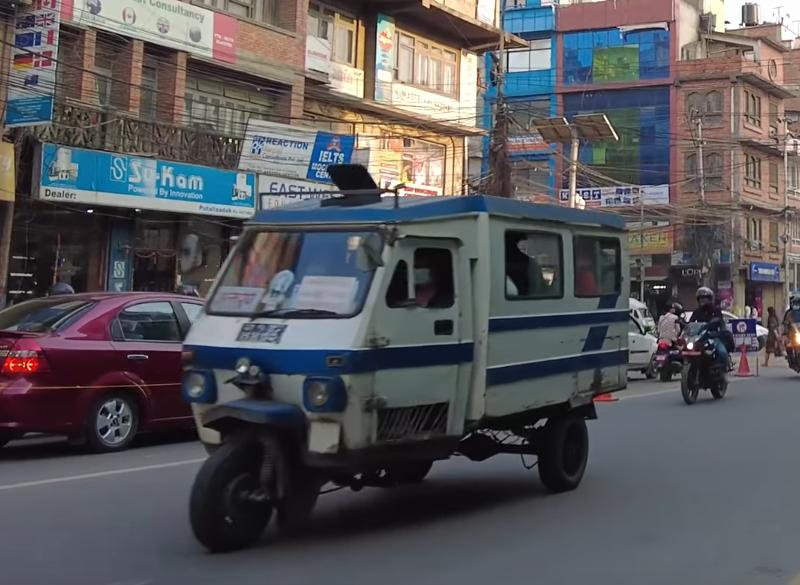bike: (666, 310, 736, 408)
car: (0, 287, 218, 453)
tempo: (171, 180, 633, 552)
